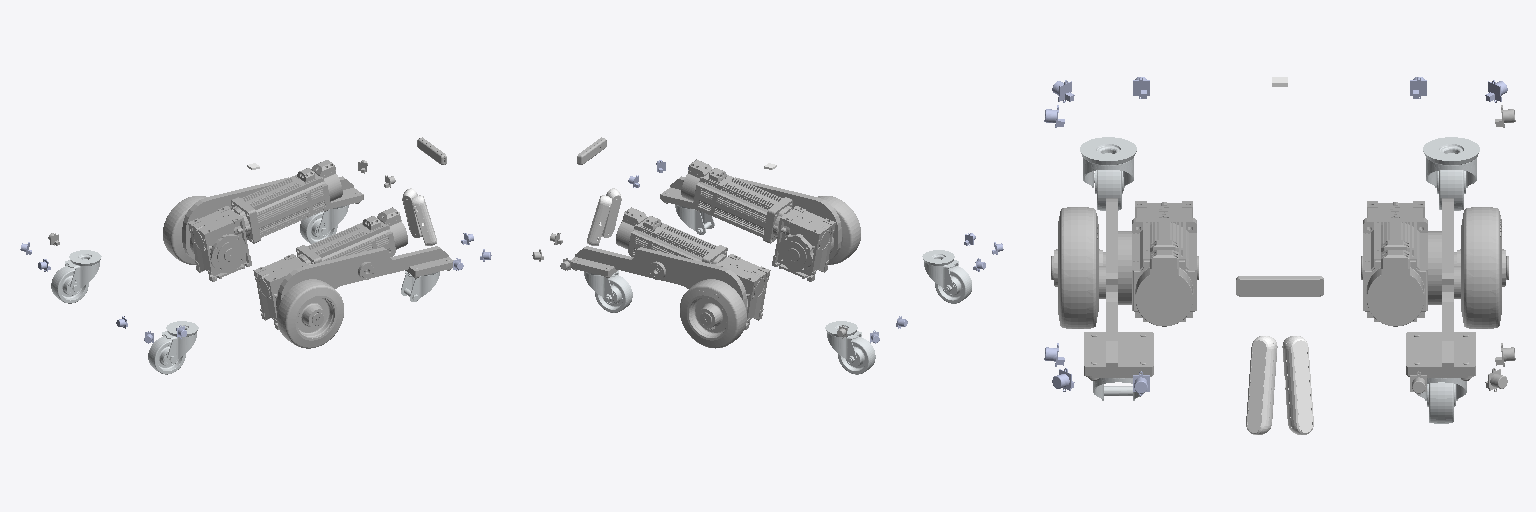
--- What the picture shows (computed from the rendered views, not written in the file) ---
3 views of the same robot in one strip: view 1: azimuth 30°, elevation 25°; view 2: azimuth 150°, elevation 25°; view 3: azimuth 270°, elevation 25° (orthographic).
Model smr200_description with 35 links and 34 joints (12 continuous, 22 fixed), rooted at base_footprint, posed every joint at zero.
Links seen in each view (by area): view 1: swing_arm_left_link, swing_arm_right_link, wheel_right_link, wheel_left_link, caster_rear_left_link, caster_rear_right_link, caster_wheel_rear_right_link, caster_wheel_rear_left_link, caster_front_right_link, depthcam_front_right_link, caster_wheel_front_left_link; view 2: swing_arm_right_link, swing_arm_left_link, wheel_left_link, wheel_right_link, caster_rear_right_link, caster_rear_left_link, caster_wheel_rear_left_link, caster_wheel_front_left_link, caster_wheel_rear_right_link, depthcam_front_left_link, caster_front_right_link, caster_front_left_link; view 3: swing_arm_left_link, swing_arm_right_link, wheel_right_link, wheel_left_link, depthcam_front_left_link, depthcam_front_right_link, caster_rear_left_link, caster_rear_right_link, depthcam_front_top_link, caster_wheel_front_left_link, caster_wheel_rear_left_link, caster_wheel_rear_right_link (+1 smaller).
Boxes of the visible links, left/top/right/bottom form: swing_arm_left_link: left=182, top=160, right=363, bottom=281; swing_arm_right_link: left=253, top=207, right=453, bottom=329; wheel_right_link: left=277, top=279, right=343, bottom=348; wheel_left_link: left=163, top=196, right=205, bottom=264; caster_rear_left_link: left=65, top=250, right=101, bottom=292; caster_rear_right_link: left=162, top=321, right=198, bottom=363; caster_wheel_rear_right_link: left=148, top=336, right=185, bottom=374; caster_wheel_rear_left_link: left=51, top=265, right=88, bottom=303; caster_front_right_link: left=401, top=271, right=439, bottom=301; depthcam_front_right_link: left=412, top=195, right=436, bottom=245; caster_wheel_front_left_link: left=300, top=211, right=337, bottom=243; swing_arm_right_link: left=660, top=159, right=841, bottom=281; swing_arm_left_link: left=570, top=207, right=770, bottom=329; wheel_left_link: left=680, top=279, right=746, bottom=348; wheel_right_link: left=818, top=196, right=860, bottom=264; caster_rear_right_link: left=922, top=250, right=958, bottom=292; caster_rear_left_link: left=825, top=321, right=861, bottom=363; caster_wheel_rear_left_link: left=838, top=336, right=875, bottom=374; caster_wheel_front_left_link: left=595, top=275, right=632, bottom=312; caster_wheel_rear_right_link: left=935, top=266, right=971, bottom=303; depthcam_front_left_link: left=587, top=195, right=611, bottom=245; caster_front_right_link: left=675, top=205, right=714, bottom=234; caster_front_left_link: left=584, top=270, right=618, bottom=301; swing_arm_left_link: left=1361, top=198, right=1508, bottom=380; swing_arm_right_link: left=1051, top=198, right=1198, bottom=380; wheel_right_link: left=1054, top=207, right=1102, bottom=328; wheel_left_link: left=1457, top=207, right=1505, bottom=328; depthcam_front_left_link: left=1282, top=336, right=1313, bottom=434; depthcam_front_right_link: left=1246, top=336, right=1277, bottom=434; caster_rear_left_link: left=1423, top=137, right=1479, bottom=187; caster_rear_right_link: left=1080, top=137, right=1136, bottom=187; depthcam_front_top_link: left=1236, top=276, right=1323, bottom=296; caster_wheel_front_left_link: left=1427, top=382, right=1455, bottom=423; caster_wheel_rear_left_link: left=1437, top=170, right=1465, bottom=210; caster_wheel_rear_right_link: left=1095, top=170, right=1123, bottom=210.
Bounding box of the posed robot: 0.8883 × 0.5766 × 0.3309 m (x, y, z).
27 mesh visuals loaded from 31 distinct referenced files (27 binary STL); not drawn: 4 (reference not matched to a file when rendering).

robot.urdf — smr200_description:
<?xml version="1.0" encoding="utf-8"?>
<!-- This URDF was automatically created by SolidWorks to URDF Exporter! Originally created by Stephen Brawner ([email redacted]) 
     Commit Version: 1.6.0-1-g15f4949  Build Version: 1.6.7594.29634
     For more information, please see http://wiki.ros.org/sw_urdf_exporter -->
<robot
  name="smr200_description">

  <link name="base_footprint"/>

  <joint name="base_footprint_to_base_link" type="fixed">
    <parent link="base_footprint"/>
    <child link="base_link"/>
    <origin xyz="0.0 0.0 0.3478" rpy="0 0 0"/>
  </joint>

  <link
    name="base_link">
    <inertial>
      <origin
        xyz="-0.026647 -0.0016089 -0.13415"
        rpy="0 0 0" />
      <mass
        value="0.10544" />
      <inertia
        ixx="0.47113"
        ixy="-0.00084986"
        ixz="-0.016209"
        iyy="1.206"
        iyz="-0.0010424"
        izz="1.3628" />
    </inertial>
    <visual>
      <origin
        xyz="0 0 0"
        rpy="0 0 0" />
      <geometry>
        <mesh
          filename="package://smr200_description/meshes/base_link.STL" />
      </geometry>
      <material
        name="">
        <color
          rgba="0.75294 0.75294 0.75294 1" />
      </material>
    </visual>
    <collision>
      <origin
        xyz="0 0 0"
        rpy="0 0 0" />
      <geometry>
        <mesh
          filename="package://smr200_description/meshes/base_link.STL" />
      </geometry>
    </collision>
  </link>
  <link
    name="swing_arm_left_link">
    <inertial>
      <origin
        xyz="-0.083791 0.023764 -0.044602"
        rpy="0 0 0" />
      <mass
        value="0.0139" />
      <inertia
        ixx="0.017736"
        ixy="0.0036377"
        ixz="3.2937E-06"
        iyy="0.046908"
        iyz="-4.7587E-06"
        izz="0.052747" />
    </inertial>
    <visual>
      <origin
        xyz="0 0 0"
        rpy="0 0 0" />
      <geometry>
        <mesh
          filename="package://smr200_description/meshes/swing_arm_left_link.STL" />
      </geometry>
      <material
        name="">
        <color
          rgba="0.75294 0.75294 0.75294 1" />
      </material>
    </visual>
    <collision>
      <origin
        xyz="0 0 0"
        rpy="0 0 0" />
      <geometry>
        <mesh
          filename="package://smr200_description/meshes/swing_arm_left_link.STL" />
      </geometry>
    </collision>
  </link>
  <joint
    name="swing_arm_left_joint"
    type="continuous">
    <origin
      xyz="0.1575 0.21 -0.218000000000007"
      rpy="-1.5707963267949 0 0" />
    <parent
      link="base_link" />
    <child
      link="swing_arm_left_link" />
    <axis
      xyz="0 0 1" />
  </joint>
  <link
    name="wheel_left_link">
    <inertial>
      <origin
        xyz="5.76130931278368E-08 9.33412154703328E-05 3.34998105323558E-05"
        rpy="0 0 0" />
      <mass
        value="4.92028521666382" />
      <inertia
        ixx="0.0086242644686345"
        ixy="2.70522886397653E-08"
        ixz="-4.32844949337095E-09"
        iyy="0.00861561656114537"
        iyz="-2.85497232661818E-06"
        izz="0.0155135674366376" />
    </inertial>
    <visual>
      <origin
        xyz="0 0 0"
        rpy="0 0 0" />
      <geometry>
        <mesh
          filename="package://smr200_description/meshes/wheel_left_link.STL" />
      </geometry>
      <material
        name="">
        <color
          rgba="0.792156862745098 0.792156862745098 0.792156862745098 1" />
      </material>
    </visual>
    <collision>
      <origin
        xyz="0 0 0"
        rpy="0 0 0" />
      <geometry>
        <mesh
          filename="package://smr200_description/meshes/wheel_left_link.STL" />
      </geometry>

      <surface>
        <friction>
          <ode>
            <mu>10000000.01</mu>
            <mu2>10000000.01</mu2>
            <fdir1>0 0 1</fdir1>
            <slip1>0.001</slip1>
            <slip2>0.001</slip2>
          </ode>
        </friction>
        <bounce>
          <restitution_coefficient>0.0</restitution_coefficient>
          <threshold>[number redacted]</threshold>
        </bounce>
        <contact>
          <ode>
            <soft_cfm>0.00001</soft_cfm>
            <soft_erp>0.2</soft_erp>
            <kp>100000000.0</kp>
            <kd>10.0</kd>
            <max_vel>100.0</max_vel>
            <min_depth>0.001</min_depth>
          </ode>
        </contact>
      </surface>

    </collision>
  </link>
  <joint
    name="wheel_left_joint"
    type="continuous">
    <origin
      xyz="-0.1575 0.054 0.037"
      rpy="0 0 0" />
    <parent
      link="swing_arm_left_link" />
    <child
      link="wheel_left_link" />
    <axis
      xyz="0 0 1" />
    <limit
      effort="100"
      velocity="50" />
  </joint>
  <link
    name="caster_front_left_link">
    <inertial>
      <origin
        xyz="-0.00916794690411099 0.000148743395371853 -0.0232497355491759"
        rpy="0 0 0" />
      <mass
        value="0.148884637872198" />
      <inertia
        ixx="8.24463656140124E-05"
        ixy="1.14375001225129E-08"
        ixz="-1.83743957993879E-05"
        iyy="8.10551190550526E-05"
        iyz="1.1068460631072E-08"
        izz="0.000103110866186914" />
    </inertial>
    <visual>
      <origin
        xyz="0 0 0"
        rpy="0 0 0" />
      <geometry>
        <mesh
          filename="package://smr200_description/meshes/caster_front_left_link.STL" />
      </geometry>
      <material
        name="">
        <color
          rgba="0.898039215686275 0.917647058823529 0.929411764705882 1" />
      </material>
    </visual>
    <collision>
      <origin
        xyz="0 0 0"
        rpy="0 0 0" />
      <geometry>
        <mesh
          filename="package://smr200_description/meshes/caster_front_left_link.STL" />
      </geometry>
      <surface>
        <friction>
          <ode>
            <mu>0.8</mu>
            <mu2>0.8</mu2>
            <kp>100000000.0</kp>
            <kd>10.0</kd>
          </ode>
        </friction>
      </surface>
    </collision>
  </link>
  <joint
    name="caster_front_left_joint"
    type="continuous">
    <origin
      xyz="0.1575 0.0289999999999999 -0.0125000000000001"
      rpy="1.5707963267949 0 0" />
    <parent
      link="swing_arm_left_link" />
    <child
      link="caster_front_left_link" />
    <axis
      xyz="0 0 -1" />
  </joint>
  <link
    name="caster_wheel_front_left_link">
    <inertial>
      <origin
        xyz="9.07118093879111E-06 3.41600020535848E-05 1.00280443698919E-05"
        rpy="0 0 0" />
      <mass
        value="0.286814980350806" />
      <inertia
        ixx="0.000143492634284959"
        ixy="4.40244433021421E-09"
        ixz="-3.53813210967159E-08"
        iyy="0.000143527236701207"
        iyz="-3.22862629139751E-08"
        izz="0.000245134545952503" />
    </inertial>
    <visual>
      <origin
        xyz="0 0 0"
        rpy="0 0 0" />
      <geometry>
        <mesh
          filename="package://smr200_description/meshes/caster_wheel_front_left_link.STL" />
      </geometry>
      <material
        name="">
        <color
          rgba="0.898039215686275 0.917647058823529 0.929411764705882 1" />
      </material>
    </visual>
    <collision>
      <origin
        xyz="0 0 0"
        rpy="0 0 0" />
      <geometry>
        <mesh
          filename="package://smr200_description/meshes/caster_wheel_front_left_link.STL" />
      </geometry>
      
      <surface>
        <friction>
          <ode>
            <mu>1.01</mu>
            <mu2>1.01</mu2>
            <fdir1>0 0 1</fdir1>
            <slip1>0</slip1>
            <slip2>0</slip2>
          </ode>
        </friction>
        <bounce>
          <restitution_coefficient>0.0</restitution_coefficient>
          <threshold>[number redacted]</threshold>
        </bounce>
        <contact>
          <ode>
            <soft_cfm>0.00001</soft_cfm>
            <soft_erp>0.2</soft_erp>
            <kp>100000000.0</kp>
            <kd>10.0</kd>
            <max_vel>100.0</max_vel>
            <min_depth>0.001</min_depth>
          </ode>
        </contact>
      </surface>

    </collision>
  </link>
  <joint
    name="caster_wheel_front_left_joint"
    type="continuous">
    <origin
      xyz="-0.038 0 -0.062"
      rpy="-1.5708 0 0" />
    <parent
      link="caster_front_left_link" />
    <child
      link="caster_wheel_front_left_link" />
    <axis
      xyz="0 0 -1" />

    <calibration rising="0.0"/>
    <dynamics damping="0.0" friction="0.0"/>
    <limit effort="30" velocity="1.0" lower="-2.2" upper="0.7" />
    <safety_controller k_velocity="10"/>

  </joint>
  <link
    name="swing_arm_right_link">
    <inertial>
      <origin
        xyz="-0.0837911210321309 -0.023763896430483 -0.0445953369512286"
        rpy="0 0 0" />
      <mass
        value="0.0139000089506776" />
      <inertia
        ixx="0.0177364623310523"
        ixy="-0.00363766903324375"
        ixz="3.59190964854568E-06"
        iyy="0.0469077047240042"
        iyz="1.43366828915928E-06"
        izz="0.0527469772594403" />
    </inertial>
    <visual>
      <origin
        xyz="0 0 0"
        rpy="0 0 0" />
      <geometry>
        <mesh
          filename="package://smr200_description/meshes/swing_arm_right_link.STL" />
      </geometry>
      <material
        name="">
        <color
          rgba="0.752941176470588 0.752941176470588 0.752941176470588 1" />
      </material>
    </visual>
    <collision>
      <origin
        xyz="0 0 0"
        rpy="0 0 0" />
      <geometry>
        <mesh
          filename="package://smr200_description/meshes/swing_arm_right_link.STL" />
      </geometry>
    </collision>
  </link>
  <joint
    name="swing_arm_right_joint"
    type="continuous">
    <origin
      xyz="0.1575 -0.21 -0.218000000000007"
      rpy="1.5707963267949 0 0" />
    <parent
      link="base_link" />
    <child
      link="swing_arm_right_link" />
    <axis
      xyz="0 0 -1" />
  </joint>
  <link
    name="wheel_right_link">
    <inertial>
      <origin
        xyz="5.76130930940097E-08 -9.33412154702773E-05 -3.34998105322865E-05"
        rpy="0 0 0" />
      <mass
        value="4.92028521666381" />
      <inertia
        ixx="0.00862426446863447"
        ixy="-2.70522886400945E-08"
        ixz="4.32844948903954E-09"
        iyy="0.00861561656114534"
        iyz="-2.85497232661669E-06"
        izz="0.0155135674366376" />
    </inertial>
    <visual>
      <origin
        xyz="0 0 0"
        rpy="0 0 0" />
      <geometry>
        <mesh
          filename="package://smr200_description/meshes/wheel_right_link.STL" />
      </geometry>
      <material
        name="">
        <color
          rgba="0.792156862745098 0.792156862745098 0.792156862745098 1" />
      </material>
    </visual>
    <collision>
      <origin
        xyz="0 0 0"
        rpy="0 0 0" />
      <geometry>
        <mesh
          filename="package://smr200_description/meshes/wheel_right_link.STL" />
      </geometry>
      
      <surface>
        <friction>
          <ode>
            <mu>10000000.01</mu>
            <mu2>10000000.01</mu2>
            <fdir1>0 0 1</fdir1>
            <slip1>0.001</slip1>
            <slip2>0.001</slip2>
          </ode>
        </friction>
        <bounce>
          <restitution_coefficient>0.0</restitution_coefficient>
          <threshold>[number redacted]</threshold>
        </bounce>
        <contact>
          <ode>
            <soft_cfm>0.00001</soft_cfm>
            <soft_erp>0.2</soft_erp>
            <kp>100000000.0</kp>
            <kd>10.0</kd>
            <max_vel>100.0</max_vel>
            <min_depth>0.001</min_depth>
          </ode>
        </contact>
      </surface>

    </collision>
  </link>
  <joint
    name="wheel_right_joint"
    type="continuous">
    <origin
      xyz="-0.1575 -0.054 0.037"
      rpy="0 0 0" />
    <parent
      link="swing_arm_right_link" />
    <child
      link="wheel_right_link" />
    <axis
      xyz="0 0 -1" />
    <limit
      effort="100"
      velocity="50" />
  </joint>
  <link
    name="caster_front_right_link">
    <inertial>
      <origin
        xyz="-0.00916794689172473 0.000148743404553092 -0.0232497355369849"
        rpy="0 0 0" />
      <mass
        value="0.148884637783886" />
      <inertia
        ixx="8.24463655345415E-05"
        ixy="1.14375353405549E-08"
        ixz="-1.83743957438304E-05"
        iyy="8.10551189419511E-05"
        iyz="1.10684955081094E-08"
        izz="0.000103110866108712" />
    </inertial>
    <visual>
      <origin
        xyz="0 0 0"
        rpy="0 0 0" />
      <geometry>
        <mesh
          filename="package://smr200_description/meshes/caster_front_right_link.STL" />
      </geometry>
      <material
        name="">
        <color
          rgba="0.898039215686275 0.917647058823529 0.929411764705882 1" />
      </material>
    </visual>
    <collision>
      <origin
        xyz="0 0 0"
        rpy="0 0 0" />
      <geometry>
        <mesh
          filename="package://smr200_description/meshes/caster_front_right_link.STL" />
      </geometry>
      
      <surface>
        <friction>
          <ode>
            <mu>1.01</mu>
            <mu2>1.01</mu2>
            <fdir1>0 0 1</fdir1>
            <slip1>0</slip1>
            <slip2>0</slip2>
          </ode>
        </friction>
        <bounce>
          <restitution_coefficient>0.0</restitution_coefficient>
          <threshold>[number redacted]</threshold>
        </bounce>
        <contact>
          <ode>
            <soft_cfm>0.00001</soft_cfm>
            <soft_erp>0.2</soft_erp>
            <kp>100000000.0</kp>
            <kd>10.0</kd>
            <max_vel>100.0</max_vel>
            <min_depth>0.001</min_depth>
          </ode>
        </contact>
      </surface>

    </collision>
  </link>
  <joint
    name="caster_front_right_joint"
    type="continuous">
    <origin
      xyz="0.1575 -0.0290000000000012 -0.0125"
      rpy="-1.5707963267949 0 0" />
    <parent
      link="swing_arm_right_link" />
    <child
      link="caster_front_right_link" />
    <axis
      xyz="0 0 -1" />
  </joint>
  <link
    name="caster_wheel_front_right_link">
    <inertial>
      <origin
        xyz="-2.81076897244992E-05 2.14277817018327E-05 1.00280443800782E-05"
        rpy="0 0 0" />
      <mass
        value="0.286814980349857" />
      <inertia
        ixx="0.000143519083987807"
        ixy="-1.5330308432154E-08"
        ixz="1.63294248752922E-08"
        iyy="0.000143500786998235"
        iyz="-4.5028774285973E-08"
        izz="0.000245134545952498" />
    </inertial>
    <visual>
      <origin
        xyz="0 0 0"
        rpy="0 0 0" />
      <geometry>
        <mesh
          filename="package://smr200_description/meshes/caster_wheel_front_right_link.STL" />
      </geometry>
      <material
        name="">
        <color
          rgba="0.898039215686275 0.917647058823529 0.929411764705882 1" />
      </material>
    </visual>
    <collision>
      <origin
        xyz="0 0 0"
        rpy="0 0 0" />
      <geometry>
        <mesh
          filename="package://smr200_description/meshes/caster_wheel_front_right_link.STL" />
      </geometry>
      
      <surface>
        <friction>
          <ode>
            <mu>1.01</mu>
            <mu2>1.01</mu2>
            <fdir1>0 0 1</fdir1>
            <slip1>0</slip1>
            <slip2>0</slip2>
          </ode>
        </friction>
        <bounce>
          <restitution_coefficient>0.0</restitution_coefficient>
          <threshold>[number redacted]</threshold>
        </bounce>
        <contact>
          <ode>
            <soft_cfm>0.00001</soft_cfm>
            <soft_erp>0.2</soft_erp>
            <kp>100000000.0</kp>
            <kd>10.0</kd>
            <max_vel>100.0</max_vel>
            <min_depth>0.001</min_depth>
          </ode>
        </contact>
      </surface>

    </collision>
  </link>
  <joint
    name="caster_wheel_front_right_joint"
    type="continuous">
    <origin
      xyz="-0.038 0 -0.062"
      rpy="1.5708 0 0" />
    <parent
      link="caster_front_right_link" />
    <child
      link="caster_wheel_front_right_link" />
    <axis
      xyz="0 0 -1" />

    <calibration rising="0.0"/>
    <dynamics damping="0.0" friction="0.0"/>
    <limit effort="30" velocity="1.0" lower="-2.2" upper="0.7" />
    <safety_controller k_velocity="10"/>

  </joint>
  <link
    name="caster_rear_left_link">
    <inertial>
      <origin
        xyz="-0.00916794690398598 0.000148743394883466 -0.0232497355491254"
        rpy="0 0 0" />
      <mass
        value="0.148884637869508" />
      <inertia
        ixx="8.24463656126247E-05"
        ixy="1.143749909265E-08"
        ixz="-1.83743957990951E-05"
        iyy="8.10551190546306E-05"
        iyz="1.10684603347817E-08"
        izz="0.000103110866185491" />
    </inertial>
    <visual>
      <origin
        xyz="0 0 0"
        rpy="0 0 0" />
      <geometry>
        <mesh
          filename="package://smr200_description/meshes/caster_rear_left_link.STL" />
      </geometry>
      <material
        name="">
        <color
          rgba="0.898039215686275 0.917647058823529 0.929411764705882 1" />
      </material>
    </visual>
    <collision>
      <origin
        xyz="0 0 0"
        rpy="0 0 0" />
      <geometry>
        <mesh
          filename="package://smr200_description/meshes/caster_rear_left_link.STL" />
      </geometry>
      <surface>
        <friction>
          <ode>
            <mu>0.8</mu>
            <mu2>0.8</mu2>
            <kp>100000000.0</kp>
            <kd>10.0</kd>
          </ode>
        </friction>
      </surface>
    </collision>
  </link>
  <joint
    name="caster_rear_left_joint"
    type="continuous">
    <origin
      xyz="-0.299 0.21 -0.245800000000008"
      rpy="0 0 0" />
    <parent
      link="base_link" />
    <child
      link="caster_rear_left_link" />
    <axis
      xyz="0 0 -1" />

    <calibration rising="0.0"/>
    <dynamics damping="0.0" friction="0.0"/>
    <limit effort="30" velocity="1.0" lower="-2.2" upper="0.7" />
    <safety_controller k_velocity="10"/>

  </joint>
  <link
    name="caster_wheel_rear_left_link">
    <inertial>
      <origin
        xyz="-2.81076897243882E-05 -2.14277817018882E-05 -1.00280443786627E-05"
        rpy="0 0 0" />
      <mass
        value="0.286814980349859" />
      <inertia
        ixx="0.000143519083987807"
        ixy="1.53303084323672E-08"
        ixz="-1.63294248749492E-08"
        iyy="0.000143500786998236"
        iyz="-4.50287742863549E-08"
        izz="0.000245134545952499" />
    </inertial>
    <visual>
      <origin
        xyz="0 0 0"
        rpy="0 0 0" />
      <geometry>
        <mesh
          filename="package://smr200_description/meshes/caster_wheel_rear_left_link.STL" />
      </geometry>
      <material
        name="">
        <color
          rgba="0.898039215686275 0.917647058823529 0.929411764705882 1" />
      </material>
    </visual>
    <collision>
      <origin
        xyz="0 0 0"
        rpy="0 0 0" />
      <geometry>
        <mesh
          filename="package://smr200_description/meshes/caster_wheel_rear_left_link.STL" />
      </geometry>
      
      <surface>
        <friction>
          <ode>
            <mu>1.01</mu>
            <mu2>1.01</mu2>
            <fdir1>0 0 1</fdir1>
            <slip1>0</slip1>
            <slip2>0</slip2>
          </ode>
        </friction>
        <bounce>
          <restitution_coefficient>0.0</restitution_coefficient>
          <threshold>[number redacted]</threshold>
        </bounce>
        <contact>
          <ode>
            <soft_cfm>0.00001</soft_cfm>
            <soft_erp>0.2</soft_erp>
            <kp>100000000.0</kp>
            <kd>10.0</kd>
            <max_vel>100.0</max_vel>
            <min_depth>0.001</min_depth>
          </ode>
        </contact>
      </surface>

    </collision>
  </link>
  <joint
    name="caster_wheel_rear_left_joint"
    type="continuous">
    <origin
      xyz="-0.038 0 -0.062"
      rpy="-1.5708 0 0" />
    <parent
      link="caster_rear_left_link" />
    <child
      link="caster_wheel_rear_left_link" />
    <axis
      xyz="0 0 -1" />

    <calibration rising="0.0"/>
    <dynamics damping="0.0" friction="0.0"/>
    <limit effort="30" velocity="1.0" lower="-2.2" upper="0.7" />
    <safety_controller k_velocity="10"/>

  </joint>
  <link
    name="caster_rear_right_link">
    <inertial>
      <origin
        xyz="-0.0091679468915738 0.000148743404136079 -0.023249735536938"
        rpy="0 0 0" />
      <mass
        value="0.148884637780923" />
      <inertia
        ixx="8.24463655331095E-05"
        ixy="1.14375344914867E-08"
        ixz="-1.83743957435236E-05"
        iyy="8.1055118941433E-05"
        iyz="1.10684952341112E-08"
        izz="0.000103110866107166" />
    </inertial>
    <visual>
      <origin
        xyz="0 0 0"
        rpy="0 0 0" />
      <geometry>
        <mesh
          filename="package://smr200_description/meshes/caster_rear_right_link.STL" />
      </geometry>
      <material
        name="">
        <color
          rgba="0.898039215686275 0.917647058823529 0.929411764705882 1" />
      </material>
    </visual>
    <collision>
      <origin
        xyz="0 0 0"
        rpy="0 0 0" />
      <geometry>
        <mesh
          filename="package://smr200_description/meshes/caster_rear_right_link.STL" />
      </geometry>
      <surface>
        <friction>
          <ode>
            <mu>0.8</mu>
            <mu2>0.8</mu2>
            <kp>100000000.0</kp>
            <kd>10.0</kd>
          </ode>
        </friction>
      </surface>
    </collision>
  </link>
  <joint
    name="caster_rear_right_joint"
    type="continuous">
    <origin
      xyz="-0.299 -0.21 -0.2458"
      rpy="0 0 0" />
    <parent
      link="base_link" />
    <child
      link="caster_rear_right_link" />
    <axis
      xyz="0 0 -1" />

    <calibration rising="0.0"/>
    <dynamics damping="0.0" friction="0.0"/>
    <limit effort="30" velocity="1.0" lower="-2.2" upper="0.7" />
    <safety_controller k_velocity="10"/>

  </joint>
  <link
    name="caster_wheel_rear_right_link">
    <inertial>
      <origin
        xyz="-2.81076897244437E-05 2.14277817017772E-05 1.00280443800227E-05"
        rpy="0 0 0" />
      <mass
        value="0.286814980349855" />
      <inertia
        ixx="0.000143519083987805"
        ixy="-1.53303084323849E-08"
        ixz="1.63294248752335E-08"
        iyy="0.000143500786998234"
        iyz="-4.50287742856061E-08"
        izz="0.000245134545952496" />
    </inertial>
    <visual>
      <origin
        xyz="0 0 0"
        rpy="0 0 0" />
      <geometry>
        <mesh
          filename="package://smr200_description/meshes/caster_wheel_rear_right_link.STL" />
      </geometry>
      <material
        name="">
        <color
          rgba="0.898039215686275 0.917647058823529 0.929411764705882 1" />
      </material>
    </visual>
    <collision>
      <origin
        xyz="0 0 0"
        rpy="0 0 0" />
      <geometry>
        <mesh
          filename="package://smr200_description/meshes/caster_wheel_rear_right_link.STL" />
      </geometry>
      
      <surface>
        <friction>
          <ode>
            <mu>1.01</mu>
            <mu2>1.01</mu2>
            <fdir1>0 0 1</fdir1>
            <slip1>0</slip1>
            <slip2>0</slip2>
          </ode>
        </friction>
        <bounce>
          <restitution_coefficient>0.0</restitution_coefficient>
          <threshold>[number redacted]</threshold>
        </bounce>
        <contact>
          <ode>
            <soft_cfm>0.00001</soft_cfm>
            <soft_erp>0.2</soft_erp>
            <kp>100000000.0</kp>
            <kd>10.0</kd>
            <max_vel>100.0</max_vel>
            <min_depth>0.001</min_depth>
          </ode>
        </contact>
      </surface>

    </collision>
  </link>
  <joint
    name="caster_wheel_rear_right_joint"
    type="continuous">
    <origin
      xyz="-0.038 0.001 -0.062"
      rpy="1.5708 0 0" />
    <parent
      link="caster_rear_right_link" />
    <child
      link="caster_wheel_rear_right_link" />
    <axis
      xyz="0 0 -1" />

    <calibration rising="0.0"/>
    <dynamics damping="0.0" friction="0.0"/>
    <limit effort="30" velocity="1.0" lower="-2.2" upper="0.7" />
    <safety_controller k_velocity="10"/>

  </joint>
  <link
    name="lidar_front_link">
    <inertial>
      <origin
        xyz="-0.000267994966892726 3.5375998918008E-06 -0.0125665312291533"
        rpy="0 0 0" />
      <mass
        value="0.0932396336685257" />
      <inertia
        ixx="5.2510158402121E-05"
        ixy="-6.97062431557764E-10"
        ixz="6.39430995763527E-08"
        iyy="5.26163151570733E-05"
        iyz="-2.77922595269124E-09"
        izz="9.92613112400179E-05" />
    </inertial>
    <visual>
      <origin
        xyz="0 0 0"
        rpy="0 0 0" />
      <geometry>
        <mesh
          filename="package://smr200_description/meshes/lidar_front_link.STL" />
      </geometry>
      <material
        name="">
        <color
          rgba="1 0.501960784313725 0.501960784313725 1" />
      </material>
    </visual>
    <collision>
      <origin
        xyz="0 0 0"
        rpy="0 0 0" />
      <geometry>
        <mesh
          filename="package://smr200_description/meshes/lidar_front_link.STL" />
      </geometry>
    </collision>
  </link>
  <joint
    name="lidar_front_joint"
    type="fixed">
    <origin
      xyz="0.396 -0.23499 -0.14276"
      rpy="0 0 -0.7854" />
    <parent
      link="base_link" />
    <child
      link="lidar_front_link" />
    <axis
      xyz="0 0 0" />
  </joint>
  <link
    name="lidar_rear_link">
    <inertial>
      <origin
        xyz="-0.000267994966919427 3.53759986759794E-06 -0.0125665312291313"
        rpy="0 0 0" />
      <mass
        value="0.0932396336685166" />
      <inertia
        ixx="5.251015840212E-05"
        ixy="-6.97062431689901E-10"
        ixz="6.39430995772695E-08"
        iyy="5.26163151570682E-05"
        iyz="-2.77922595286048E-09"
        izz="9.92613112400124E-05" />
    </inertial>
    <visual>
      <origin
        xyz="0 0 0"
        rpy="0 0 0" />
      <geometry>
        <mesh
          filename="package://smr200_description/meshes/lidar_rear_link.STL" />
      </geometry>
      <material
        name="">
        <color
          rgba="1 0.501960784313725 0.501960784313725 1" />
      </material>
    </visual>
    <collision>
      <origin
        xyz="0 0 0"
        rpy="0 0 0" />
      <geometry>
        <mesh
          filename="package://smr200_description/meshes/lidar_rear_link.STL" />
      </geometry>
    </collision>
  </link>
  <joint
    name="lidar_rear_joint"
    type="fixed">
    <origin
      xyz="-0.38401 0.235 -0.1418"
      rpy="0 0 2.3562" />
    <parent
      link="base_link" />
    <child
      link="lidar_rear_link" />
    <axis
      xyz="0 0 0" />
  </joint>
  <link
    name="depthcam_front_left_link">
    <inertial>
      <origin
        xyz="0.00205465802673033 0.000268685933432433 0.0146045324274485"
        rpy="0 0 0" />
      <mass
        value="0.0607537105971397" />
      <inertia
        ixx="7.79818123126208E-05"
        ixy="-2.55133558510122E-08"
        ixz="-3.51134247448455E-08"
        iyy="5.06158648401123E-06"
        iyz="2.56320907246364E-08"
        izz="7.40183063521512E-05" />
    </inertial>
    <visual>
      <origin
        xyz="0 0 0"
        rpy="0 0 0" />
      <geometry>
        <mesh
          filename="package://smr200_description/meshes/depthcam_front_left_link.STL" />
      </geometry>
      <material
        name="">
        <color
          rgba="1 1 1 1" />
      </material>
    </visual>
    <collision>
      <origin
        xyz="0 0 0"
        rpy="0 0 0" />
      <geometry>
        <mesh
          filename="package://smr200_description/meshes/depthcam_front_left_link.STL" />
      </geometry>
    </collision>
  </link>
  <joint
    name="depthcam_front_left_joint"
    type="fixed">
    <origin
      xyz="0.40471 0.033483 -0.23905"
      rpy="1.5013 -0.26357 0.5236" />
    <parent
      link="base_link" />
    <child
      link="depthcam_front_left_link" />
    <axis
      xyz="0 0 0" />
  </joint>
  <link
    name="depthcam_front_right_link">
    <inertial>
      <origin
        xyz="0.00205465282956815 0.000268685457639639 0.0146045316276136"
        rpy="0 0 0" />
      <mass
        value="0.060753752180391" />
      <inertia
        ixx="7.79818605016467E-05"
        ixy="-2.55152779380404E-08"
        ixz="-3.51119403926908E-08"
        iyy="5.0615887672157E-06"
        iyz="2.56249476722596E-08"
        izz="7.40183539559307E-05" />
    </inertial>
    <visual>
      <origin
        xyz="0 0 0"
        rpy="0 0 0" />
      <geometry>
        <mesh
          filename="package://smr200_description/meshes/depthcam_front_right_link.STL" />
      </geometry>
      <material
        name="">
        <color
          rgba="1 1 1 1" />
      </material>
    </visual>
    <collision>
      <origin
        xyz="0 0 0"
        rpy="0 0 0" />
      <geometry>
        <mesh
          filename="package://smr200_description/meshes/depthcam_front_right_link.STL" />
      </geometry>
    </collision>
  </link>
  <joint
    name="depthcam_front_right_joint"
    type="fixed">
    <origin
      xyz="0.40471 -0.033483 -0.23905"
      rpy="-1.5013 -0.26357 -0.5236" />
    <parent
      link="base_link" />
    <child
      link="depthcam_front_right_link" />
    <axis
      xyz="0 0 0" />
  </joint>
  <link
    name="depthcam_front_top_link">
    <inertial>
      <origin
        xyz="-0.00700379967453924 -0.00686872375428842 9.17697034640008E-06"
        rpy="0 0 0" />
      <mass
        value="0.120538051855423" />
      <inertia
        ixx="0.000109400645522517"
        ixy="-1.05823454758438E-07"
        ixz="-1.49658476792281E-08"
        iyy="7.39026523464577E-06"
        iyz="3.41785510728163E-08"
        izz="0.000103935159287737" />
    </inertial>
    <visual>
      <origin
        xyz="0 0 0"
        rpy="0 0 0" />
      <geometry>
        <mesh
          filename="package://smr200_description/meshes/depthcam_front_top_link.STL" />
      </geometry>
      <material
        name="">
        <color
          rgba="0.792156862745098 0.792156862745098 0.792156862745098 1" />
      </material>
    </visual>
    <collision>
      <origin
        xyz="0 0 0"
        rpy="0 0 0" />
      <geometry>
        <mesh
          filename="package://smr200_description/meshes/depthcam_front_top_link.STL" />
      </geometry>
    </collision>
  </link>
  <joint
    name="depthcam_front_top_joint"
    type="fixed">
    <origin
      xyz="0.451 0.0081 -0.088"
      rpy="0 0 0" />
    <parent
      link="base_link" />
    <child
      link="depthcam_front_top_link" />
    <axis
      xyz="0 0 0" />
  </joint>
  <link
    name="ultrasonic_front_left_link">
    <inertial>
      <origin
        xyz="-0.00990545214343536 -0.000360935413968255 -0.000782026730264507"
        rpy="0 0 0" />
      <mass
        value="0.0330313597353151" />
      <inertia
        ixx="1.28694267013293E-06"
        ixy="2.44775965516465E-23"
        ixz="-1.32348898008484E-23"
        iyy="1.08244491110523E-06"
        iyz="1.3752801384319E-22"
        izz="1.02007684167811E-06" />
    </inertial>
    <visual>
      <origin
        xyz="0 0 0"
        rpy="0 0 0" />
      <geometry>
        <mesh
          filename="package://smr200_description/meshes/ultrasonic_front_left_link.STL" />
      </geometry>
      <material
        name="">
        <color
          rgba="0.792156862745098 0.792156862745098 0.792156862745098 1" />
      </material>
    </visual>
    <collision>
      <origin
        xyz="0 0 0"
        rpy="0 0 0" />
      <geometry>
        <mesh
          filename="package://smr200_description/meshes/ultrasonic_front_left_link.STL" />
      </geometry>
    </collision>
  </link>
  <joint
    name="ultrasonic_front_left_joint"
    type="fixed">
    <origin
      xyz="0.44853 0.17 -0.22418"
      rpy="0 -0.10436 0" />
    <parent
      link="base_link" />
    <child
      link="ultrasonic_front_left_link" />
    <axis
      xyz="0 0 0" />
  </joint>
  <link
    name="ultrasonic_front_left_mid_link">
    <inertial>
      <origin
        xyz="-0.00990545214343541 -0.000360935413968311 -0.000782026730264396"
        rpy="0 0 0" />
      <mass
        value="0.0330313597353151" />
      <inertia
        ixx="1.28694267013293E-06"
        ixy="-2.11758236813575E-22"
        ixz="-1.62127400060393E-22"
        iyy="1.08244491110522E-06"
        iyz="8.40415502353876E-22"
        izz="1.02007684167811E-06" />
    </inertial>
    <visual>
      <origin
        xyz="0 0 0"
        rpy="0 0 0" />
      <geometry>
        <mesh
          filename="package://smr200_description/meshes/ultrasonic_front_left_mid_link.STL" />
      </geometry>
      <material
        name="">
        <color
          rgba="0.792156862745098 0.792156862745098 0.792156862745098 1" />
      </material>
    </visual>
    <collision>
      <origin
        xyz="0 0 0"
        rpy="0 0 0" />
      <geometry>
        <mesh
          filename="package://smr200_description/meshes/ultrasonic_front_left_mid_link.STL" />
      </geometry>
    </collision>
  </link>
  <joint
    name="ultrasonic_front_left_mid_joint"
    type="fixed">
    <origin
      xyz="0.43425 0.27325 -0.22418"
      rpy="0 -0.10436 0.7854" />
    <parent
      link="base_link" />
    <child
      link="ultrasonic_front_left_mid_link" />
    <axis
      xyz="0 0 0" />
  </joint>
  <link
    name="ultrasonic_front_left_side_link">
    <inertial>
      <origin
        xyz="-0.0099054521434353 -0.000360935413968255 -0.000782026730264507"
        rpy="0 0 0" />
      <mass
        value="0.0330313597353151" />
      <inertia
        ixx="1.28694267013293E-06"
        ixy="-1.46539188336252E-22"
        ixz="-1.25731453108056E-22"
        iyy="1.08244491110523E-06"
        iyz="1.58933500306917E-23"
        izz="1.02007684167811E-06" />
    </inertial>
    <visual>
      <origin
        xyz="0 0 0"
        rpy="0 0 0" />
      <geometry>
        <mesh
          filename="package://smr200_description/meshes/ultrasonic_front_left_side_link.STL" />
      </geometry>
      <material
        name="">
        <color
          rgba="0.792156862745098 0.792156862745098 0.792156862745098 1" />
      </material>
    </visual>
    <collision>
      <origin
        xyz="0 0 0"
        rpy="0 0 0" />
      <geometry>
        <mesh
          filename="package://smr200_description/meshes/ultrasonic_front_left_side_link.STL" />
      </geometry>
    </collision>
  </link>
  <joint
    name="ultrasonic_front_left_side_joint"
    type="fixed">
    <origin
      xyz="0.351 0.28753 -0.22418"
      rpy="0 -0.10436 1.5708" />
    <parent
      link="base_link" />
    <child
      link="ultrasonic_front_left_side_link" />
    <axis
      xyz="0 0 0" />
  </joint>
  <link
    name="ultrasonic_front_right_link">
    <inertial>
      <origin
        xyz="-0.00990545214343552 0.00036093541396847 -0.000782026730267504"
        rpy="0 0 0" />
      <mass
        value="0.0330313597353151" />
      <inertia
        ixx="1.28694267013293E-06"
        ixy="6.20762565656672E-24"
        ixz="-4.63221143029695E-23"
        iyy="1.08244491110523E-06"
        iyz="7.04994803944604E-24"
        izz="1.02007684167811E-06" />
    </inertial>
    <visual>
      <origin
        xyz="0 0 0"
        rpy="0 0 0" />
      <geometry>
        <mesh
          filename="package://smr200_description/meshes/ultrasonic_front_right_link.STL" />
      </geometry>
      <material
        name="">
        <color
          rgba="0.792156862745098 0.819607843137255 0.933333333333333 1" />
      </material>
    </visual>
    <collision>
      <origin
        xyz="0 0 0"
        rpy="0 0 0" />
      <geometry>
        <mesh
          filename="package://smr200_description/meshes/ultrasonic_front_right_link.STL" />
      </geometry>
    </collision>
  </link>
  <joint
    name="ultrasonic_front_right_joint"
    type="fixed">
    <origin
      xyz="0.44853 -0.17 -0.22418"
      rpy="0 -0.10436 0" />
    <parent
      link="base_link" />
    <child
      link="ultrasonic_front_right_link" />
    <axis
      xyz="0 0 0" />
  </joint>
  <link
    name="ultrasonic_front_right_mid_link">
    <inertial>
      <origin
        xyz="-0.00990545214343569 0.000360935413968727 -0.000782026730264562"
        rpy="0 0 0" />
      <mass
        value="0.033031359735315" />
      <inertia
        ixx="1.28694267013293E-06"
        ixy="4.76456032830544E-22"
        ixz="1.65436122510606E-23"
        iyy="1.08244491110522E-06"
        iyz="-2.44845461315696E-22"
        izz="1.02007684167811E-06" />
    </inertial>
    <visual>
      <origin
        xyz="0 0 0"
        rpy="0 0 0" />
      <geometry>
        <mesh
          filename="package://smr200_description/meshes/ultrasonic_front_right_mid_link.STL" />
      </geometry>
      <material
        name="">
        <color
          rgba="0.792156862745098 0.819607843137255 0.933333333333333 1" />
      </material>
    </visual>
    <collision>
      <origin
        xyz="0 0 0"
        rpy="0 0 0" />
      <geometry>
        <mesh
          filename="package://smr200_description/meshes/ultrasonic_front_right_mid_link.STL" />
      </geometry>
    </collision>
  </link>
  <joint
    name="ultrasonic_front_right_mid_joint"
    type="fixed">
    <origin
      xyz="0.43425 -0.27325 -0.22418"
      rpy="0 -0.10436 -0.7854" />
    <parent
      link="base_link" />
    <child
      link="ultrasonic_front_right_mid_link" />
    <axis
      xyz="0 0 0" />
  </joint>
  <link
    name="ultrasonic_front_right_side_link">
    <inertial>
      <origin
        xyz="-0.00990545214343669 0.000360935413968089 -0.000782026730264396"
        rpy="0 0 0" />
      <mass
        value="0.0330313597353151" />
      <inertia
        ixx="1.28694267013294E-06"
        ixy="2.0492332538577E-22"
        ixz="-9.2644228605935E-23"
        iyy="1.08244491110523E-06"
        iyz="-1.53367473204685E-22"
        izz="1.02007684167811E-06" />
    </inertial>
    <visual>
      <origin
        xyz="0 0 0"
        rpy="0 0 0" />
      <geometry>
        <mesh
          filename="package://smr200_description/meshes/ultrasonic_front_right_side_link.STL" />
      </geometry>
      <material
        name="">
        <color
          rgba="0.792156862745098 0.819607843137255 0.933333333333333 1" />
      </material>
    </visual>
    <collision>
      <origin
        xyz="0 0 0"
        rpy="0 0 0" />
      <geometry>
        <mesh
          filename="package://smr200_description/meshes/ultrasonic_front_right_side_link.STL" />
      </geometry>
    </collision>
  </link>
  <joint
    name="ultrasonic_front_right_side_joint"
    type="fixed">
    <origin
      xyz="0.351 -0.28753 -0.22418"
      rpy="0 -0.10436 -1.5708" />
    <parent
      link="base_link" />
    <child
      link="ultrasonic_front_right_side_link" />
    <axis
      xyz="0 0 0" />
  </joint>
  <link
    name="ultrasonic_rear_left_link">
    <inertial>
      <origin
        xyz="-0.0099054521434353 0.000360935413968311 -0.000782026730264507"
        rpy="0 0 0" />
      <mass
        value="0.0330313597353151" />
      <inertia
        ixx="1.28694267013293E-06"
        ixy="-8.97285139550002E-23"
        ixz="1.98523347012727E-23"
        iyy="1.08244491110523E-06"
        iyz="-8.25629212311342E-23"
        izz="1.02007684167811E-06" />
    </inertial>
    <visual>
      <origin
        xyz="0 0 0"
        rpy="0 0 0" />
      <geometry>
        <mesh
          filename="package://smr200_description/meshes/ultrasonic_rear_left_link.STL" />
      </geometry>
      <material
        name="">
        <color
          rgba="0.792156862745098 0.819607843137255 0.933333333333333 1" />
      </material>
    </visual>
    <collision>
      <origin
        xyz="0 0 0"
        rpy="0 0 0" />
      <geometry>
        <mesh
          filename="package://smr200_description/meshes/ultrasonic_rear_left_link.STL" />
      </geometry>
    </collision>
  </link>
  <joint
    name="ultrasonic_rear_left_joint"
    type="fixed">
    <origin
      xyz="-0.43653 0.17 -0.22418"
      rpy="0 -0.10436 3.1416" />
    <parent
      link="base_link" />
    <child
      link="ultrasonic_rear_left_link" />
    <axis
      xyz="0 0 0" />
  </joint>
  <link
    name="ultrasonic_rear_left_mid_link">
    <inertial>
      <origin
        xyz="-0.00990545214343541 0.0003609354139682 -0.000782026730264562"
        rpy="0 0 0" />
      <mass
        value="0.0330313597353151" />
      <inertia
        ixx="1.28694267013293E-06"
        ixy="1.05879118406788E-22"
        ixz="2.81241408268029E-22"
        iyy="1.08244491110522E-06"
        iyz="-9.69455677912148E-22"
        izz="1.02007684167811E-06" />
    </inertial>
    <visual>
      <origin
        xyz="0 0 0"
        rpy="0 0 0" />
      <geometry>
        <mesh
          filename="package://smr200_description/meshes/ultrasonic_rear_left_mid_link.STL" />
      </geometry>
      <material
        name="">
        <color
          rgba="0.792156862745098 0.819607843137255 0.933333333333333 1" />
      </material>
    </visual>
    <collision>
      <origin
        xyz="0 0 0"
        rpy="0 0 0" />
      <geometry>
        <mesh
          filename="package://smr200_description/meshes/ultrasonic_rear_left_mid_link.STL" />
      </geometry>
    </collision>
  </link>
  <joint
    name="ultrasonic_rear_left_mid_joint"
    type="fixed">
    <origin
      xyz="-0.42225 0.27325 -0.22418"
      rpy="0 -0.10436 2.3562" />
    <parent
      link="base_link" />
    <child
      link="ultrasonic_rear_left_mid_link" />
    <axis
      xyz="0 0 0" />
  </joint>
  <link
    name="ultrasonic_rear_left_side_link">
    <inertial>
      <origin
        xyz="-0.0099054521434353 -0.0003609354139682 -0.000782026730264618"
        rpy="0 0 0" />
      <mass
        value="0.0330313597353151" />
      <inertia
        ixx="1.28694267013293E-06"
        ixy="8.55285245698956E-23"
        ixz="7.9409338805092E-23"
        iyy="1.08244491110523E-06"
        iyz="-2.09276497044877E-24"
        izz="1.02007684167811E-06" />
    </inertial>
    <visual>
      <origin
        xyz="0 0 0"
        rpy="0 0 0" />
      <geometry>
        <mesh
          filename="package://smr200_description/meshes/ultrasonic_rear_left_side_link.STL" />
      </geometry>
      <material
        name="">
        <color
          rgba="0.792156862745098 0.792156862745098 0.792156862745098 1" />
      </material>
    </visual>
    <collision>
      <origin
        xyz="0 0 0"
        rpy="0 0 0" />
      <geometry>
        <mesh
          filename="package://smr200_description/meshes/ultrasonic_rear_left_side_link.STL" />
      </geometry>
    </collision>
  </link>
  <joint
    name="ultrasonic_rear_left_side_joint"
    type="fixed">
    <origin
      xyz="-0.339 0.28753 -0.22418"
      rpy="0 -0.10436 1.5708" />
    <parent
      link="base_link" />
    <child
      link="ultrasonic_rear_left_side_link" />
    <axis
      xyz="0 0 0" />
  </joint>
  <link
    name="ultrasonic_rear_right_link">
    <inertial>
      <origin
        xyz="-0.00990545214343536 -0.000360935413968456 -0.000782026730267504"
        rpy="0 0 0" />
      <mass
        value="0.0330313597353151" />
      <inertia
        ixx="1.28694267013293E-06"
        ixy="1.12033891972881E-22"
        ixz="-3.30872245021211E-23"
        iyy="1.08244491110523E-06"
        iyz="-4.87772114149499E-23"
        izz="1.02007684167811E-06" />
    </inertial>
    <visual>
      <origin
        xyz="0 0 0"
        rpy="0 0 0" />
      <geometry>
        <mesh
          filename="package://smr200_description/meshes/ultrasonic_rear_right_link.STL" />
      </geometry>
      <material
        name="">
        <color
          rgba="0.792156862745098 0.819607843137255 0.933333333333333 1" />
      </material>
    </visual>
    <collision>
      <origin
        xyz="0 0 0"
        rpy="0 0 0" />
      <geometry>
        <mesh
          filename="package://smr200_description/meshes/ultrasonic_rear_right_link.STL" />
      </geometry>
    </collision>
  </link>
  <joint
    name="ultrasonic_rear_right_joint"
    type="fixed">
    <origin
      xyz="-0.43653 -0.17 -0.22418"
      rpy="0 -0.10436 3.1416" />
    <parent
      link="base_link" />
    <child
      link="ultrasonic_rear_right_link" />
    <axis
      xyz="0 0 0" />
  </joint>
  <link
    name="ultrasonic_rear_right_mid_link">
    <inertial>
      <origin
        xyz="-0.00990545214343574 -0.000360935413968699 -0.000782026730264451"
        rpy="0 0 0" />
      <mass
        value="0.033031359735315" />
      <inertia
        ixx="1.28694267013293E-06"
        ixy="-5.82335151237331E-22"
        ixz="6.28657265540301E-23"
        iyy="1.08244491110522E-06"
        iyz="4.73147310380332E-22"
        izz="1.02007684167811E-06" />
    </inertial>
    <visual>
      <origin
        xyz="0 0 0"
        rpy="0 0 0" />
      <geometry>
        <mesh
          filename="package://smr200_description/meshes/ultrasonic_rear_right_mid_link.STL" />
      </geometry>
      <material
        name="">
        <color
          rgba="0.792156862745098 0.819607843137255 0.933333333333333 1" />
      </material>
    </visual>
    <collision>
      <origin
        xyz="0 0 0"
        rpy="0 0 0" />
      <geometry>
        <mesh
          filename="package://smr200_description/meshes/ultrasonic_rear_right_mid_link.STL" />
      </geometry>
    </collision>
  </link>
  <joint
    name="ultrasonic_rear_right_mid_joint"
    type="fixed">
    <origin
      xyz="-0.42225 -0.27325 -0.22418"
      rpy="0 -0.10436 -2.3562" />
    <parent
      link="base_link" />
    <child
      link="ultrasonic_rear_right_mid_link" />
    <axis
      xyz="0 0 0" />
  </joint>
  <link
    name="ultrasonic_rear_right_side_link">
    <inertial>
      <origin
        xyz="-0.00990545214343669 0.000360935413968311 -0.000782026730264312"
        rpy="0 0 0" />
      <mass
        value="0.033031359735315" />
      <inertia
        ixx="1.28694267013293E-06"
        ixy="-3.50091298049347E-22"
        ixz="-9.92616735063566E-23"
        iyy="1.08244491110522E-06"
        iyz="4.59431436487429E-23"
        izz="1.02007684167811E-06" />
    </inertial>
    <visual>
      <origin
        xyz="0 0 0"
        rpy="0 0 0" />
      <geometry>
        <mesh
          filename="package://smr200_description/meshes/ultrasonic_rear_right_side_link.STL" />
      </geometry>
      <material
        name="">
        <color
          rgba="0.792156862745098 0.819607843137255 0.933333333333333 1" />
      </material>
    </visual>
    <collision>
      <origin
        xyz="0 0 0"
        rpy="0 0 0" />
      <geometry>
        <mesh
          filename="package://smr200_description/meshes/ultrasonic_rear_right_side_link.STL" />
      </geometry>
    </collision>
  </link>
  <joint
    name="ultrasonic_rear_right_side_joint"
    type="fixed">
    <origin
      xyz="-0.339 -0.28753 -0.22418"
      rpy="0 -0.10436 -1.5708" />
    <parent
      link="base_link" />
    <child
      link="ultrasonic_rear_right_side_link" />
    <axis
      xyz="0 0 0" />
  </joint>
  <link
    name="imu_link">
    <inertial>
      <origin
        xyz="0 0 0"
        rpy="0 0 0" />
      <mass
        value="0.05" />
      <inertia
        ixx="0"
        ixy="0"
        ixz="0"
        iyy="0"
        iyz="0"
        izz="0" />
    </inertial>
    <visual>
      <origin
        xyz="0 0 0"
        rpy="0 0 0" />
      <geometry>
        <mesh
          filename="package://smr200_description/meshes/imu_link.STL" />
      </geometry>
      <material
        name="">
        <color
          rgba="1 1 1 1" />
      </material>
    </visual>
    <collision>
      <origin
        xyz="0 0 0"
        rpy="0 0 0" />
      <geometry>
        <mesh
          filename="package://smr200_description/meshes/imu_link.STL" />
      </geometry>
    </collision>
  </link>
  <joint
    name="imu_joint"
    type="fixed">
    <origin
      xyz="0 0 -0.0230000000000049"
      rpy="0 0 0" />
    <parent
      link="base_link" />
    <child
      link="imu_link" />
    <axis
      xyz="0 0 0" />
  </joint>

  <!-- '''mu''' is the Coulomb friction coefficient for the first friction direction, and
       '''mu2''' is the friction coefficient for the second friction direction (perpendicular to the first friction direction). -->

  <gazebo reference="wheel_left_link">
    <surface>
        <friction>
          <ode>
            <mu>10000000.01</mu>
            <mu2>10000000.01</mu2>
            <fdir1>0 0 1</fdir1>
            <slip1>100</slip1>
            <slip2>100</slip2>
          </ode>
        </friction>
        <bounce>
          <restitution_coefficient>0.0</restitution_coefficient>
          <threshold>[number redacted]</threshold>
        </bounce>
        <contact>
          <ode>
            <soft_cfm>0.00001</soft_cfm>
            <soft_erp>0.2</soft_erp>
            <kp>100000000.0</kp>
            <kd>10.0</kd>
            <max_vel>100.0</max_vel>
            <min_depth>0.001</min_depth>
          </ode>
        </contact>
    </surface>
  </gazebo>

  <gazebo reference="wheel_right_link">
    <surface>
        <friction>
          <ode>
            <mu>10000000.01</mu>
            <mu2>10000000.01</mu2>
            <fdir1>0 0 1</fdir1>
            <slip1>100</slip1>
            <slip2>100</slip2>
          </ode>
        </friction>
        <bounce>
          <restitution_coefficient>0.0</restitution_coefficient>
          <threshold>[number redacted]</threshold>
        </bounce>
        <contact>
          <ode>
            <soft_cfm>0.00001</soft_cfm>
            <soft_erp>0.2</soft_erp>
            <kp>100000000.0</kp>
            <kd>10.0</kd>
            <max_vel>100.0</max_vel>
            <min_depth>0.001</min_depth>
          </ode>
        </contact>
    </surface>
  </gazebo>

  <gazebo reference="caster_wheel_front_left_link">
    <surface>
        <friction>
          <ode>
            <mu>10000000.01</mu>
            <mu2>10000000.01</mu2>
            <fdir1>0 0 1</fdir1>
            <slip1>100</slip1>
            <slip2>100</slip2>
          </ode>
        </friction>
        <bounce>
          <restitution_coefficient>0.0</restitution_coefficient>
          <threshold>[number redacted]</threshold>
        </bounce>
        <contact>
          <ode>
            <soft_cfm>0.00001</soft_cfm>
            <soft_erp>0.2</soft_erp>
            <kp>100000000.0</kp>
            <kd>10.0</kd>
            <max_vel>100.0</max_vel>
            <min_depth>0.001</min_depth>
          </ode>
        </contact>
    </surface>
  </gazebo>

  <gazebo reference="caster_wheel_front_right_link">
    <surface>
        <friction>
          <ode>
            <mu>10000000.01</mu>
            <mu2>10000000.01</mu2>
            <fdir1>0 0 1</fdir1>
            <slip1>100</slip1>
            <slip2>100</slip2>
          </ode>
        </friction>
        <bounce>
          <restitution_coefficient>0.0</restitution_coefficient>
          <threshold>[number redacted]</threshold>
        </bounce>
        <contact>
          <ode>
            <soft_cfm>0.00001</soft_cfm>
            <soft_erp>0.2</soft_erp>
            <kp>100000000.0</kp>
            <kd>10.0</kd>
            <max_vel>100.0</max_vel>
            <min_depth>0.001</min_depth>
          </ode>
        </contact>
    </surface>
  </gazebo>

  <gazebo reference="caster_wheel_rear_left_link">
    <surface>
        <friction>
          <ode>
            <mu>10000000.01</mu>
            <mu2>10000000.01</mu2>
            <fdir1>0 0 1</fdir1>
            <slip1>100</slip1>
            <slip2>100</slip2>
          </ode>
        </friction>
        <bounce>
          <restitution_coefficient>0.0</restitution_coefficient>
          <threshold>[number redacted]</threshold>
        </bounce>
        <contact>
          <ode>
            <soft_cfm>0.00001</soft_cfm>
            <soft_erp>0.2</soft_erp>
            <kp>100000000.0</kp>
            <kd>10.0</kd>
            <max_vel>100.0</max_vel>
            <min_depth>0.001</min_depth>
          </ode>
        </contact>
    </surface>
  </gazebo>

  <gazebo reference="caster_wheel_rear_right_link">
    <surface>
        <friction>
          <ode>
            <mu>10000000.01</mu>
            <mu2>10000000.01</mu2>
            <fdir1>0 0 1</fdir1>
            <slip1>100</slip1>
            <slip2>100</slip2>
          </ode>
        </friction>
        <bounce>
          <restitution_coefficient>0.0</restitution_coefficient>
          <threshold>[number redacted]</threshold>
        </bounce>
        <contact>
          <ode>
            <soft_cfm>0.00001</soft_cfm>
            <soft_erp>0.2</soft_erp>
            <kp>100000000.0</kp>
            <kd>10.0</kd>
            <max_vel>100.0</max_vel>
            <min_depth>0.001</min_depth>
          </ode>
        </contact>
    </surface>
  </gazebo>

  <gazebo reference="caster_front_left_link">
    <surface>
        <friction>
          <ode>
            <mu>10000000.01</mu>
            <mu2>10000000.01</mu2>
            <fdir1>0 0 1</fdir1>
            <slip1>100</slip1>
            <slip2>100</slip2>
          </ode>
        </friction>
        <bounce>
          <restitution_coefficient>0.0</restitution_coefficient>
          <threshold>[number redacted]</threshold>
        </bounce>
        <contact>
          <ode>
            <soft_cfm>0.00001</soft_cfm>
            <soft_erp>0.2</soft_erp>
            <kp>100000000.0</kp>
            <kd>10.0</kd>
            <max_vel>100.0</max_vel>
            <min_depth>0.001</min_depth>
          </ode>
        </contact>
    </surface>
  </gazebo>

  <gazebo reference="caster_front_right_link">
    <surface>
        <friction>
          <ode>
            <mu>10000000.01</mu>
            <mu2>10000000.01</mu2>
            <fdir1>0 0 1</fdir1>
            <slip1>100</slip1>
            <slip2>100</slip2>
          </ode>
        </friction>
        <bounce>
          <restitution_coefficient>0.0</restitution_coefficient>
          <threshold>[number redacted]</threshold>
        </bounce>
        <contact>
          <ode>
            <soft_cfm>0.00001</soft_cfm>
            <soft_erp>0.2</soft_erp>
            <kp>100000000.0</kp>
            <kd>10.0</kd>
            <max_vel>100.0</max_vel>
            <min_depth>0.001</min_depth>
          </ode>
        </contact>
    </surface>
  </gazebo>

  <gazebo reference="caster_rear_left_link">
    <surface>
        <friction>
          <ode>
            <mu>10000000.01</mu>
            <mu2>10000000.01</mu2>
            <fdir1>0 0 1</fdir1>
            <slip1>100</slip1>
            <slip2>100</slip2>
          </ode>
        </friction>
        <bounce>
          <restitution_coefficient>0.0</restitution_coefficient>
          <threshold>[number redacted]</threshold>
        </bounce>
        <contact>
          <ode>
            <soft_cfm>0.00001</soft_cfm>
            <soft_erp>0.2</soft_erp>
            <kp>100000000.0</kp>
            <kd>10.0</kd>
            <max_vel>100.0</max_vel>
            <min_depth>0.001</min_depth>
          </ode>
        </contact>
    </surface>
  </gazebo>

  <gazebo reference="caster_rear_right_link">
    <surface>
        <friction>
          <ode>
            <mu>10000000.01</mu>
            <mu2>10000000.01</mu2>
            <fdir1>0 0 1</fdir1>
            <slip1>100</slip1>
            <slip2>100</slip2>
          </ode>
        </friction>
        <bounce>
          <restitution_coefficient>0.0</restitution_coefficient>
          <threshold>[number redacted]</threshold>
        </bounce>
        <contact>
          <ode>
            <soft_cfm>0.00001</soft_cfm>
            <soft_erp>0.2</soft_erp>
            <kp>100000000.0</kp>
            <kd>10.0</kd>
            <max_vel>100.0</max_vel>
            <min_depth>0.001</min_depth>
          </ode>
        </contact>
    </surface>
  </gazebo>

  <gazebo>
    <plugin name="differential_drive_controller" filename="libgazebo_ros_diff_drive.so">

      <!-- Plugin update rate in Hz -->
      <updateRate>40</updateRate>

      <publishTf>true</publishTf>

      <!-- Name of left joint, defaults to `left_joint` -->
      <leftJoint>wheel_left_joint</leftJoint>

      <!-- Name of right joint, defaults to `right_joint` -->
      <rightJoint>wheel_right_joint</rightJoint>

      <!-- The distance from the center of one wheel to the other, in meters, defaults to 0.34 m -->
      <wheelSeparation>0.494</wheelSeparation>

      <!-- Diameter of the wheels, in meters, defaults to 0.15 m -->
      <wheelDiameter>0.15</wheelDiameter>

      <!-- Wheel acceleration, in rad/s^2, defaults to 0.0 rad/s^2 -->
      <wheelAcceleration>1.0</wheelAcceleration>

      <!-- Maximum torque which the wheels can produce, in Nm, defaults to 5 Nm -->
      <wheelTorque>500.0</wheelTorque>

      <!-- Topic to receive geometry_msgs/Twist message commands, defaults to `cmd_vel` -->
      <commandTopic>cmd_vel</commandTopic>

      <!-- Topic to publish nav_msgs/Odometry messages, defaults to `odom` -->
      <odometryTopic>odom</odometryTopic>

      <!-- Odometry frame, defaults to `odom` -->
      <odometryFrame>odom</odometryFrame>

      <publishOdomTF>true</publishOdomTF>

      <odometrySource>world</odometrySource>

      <!-- Robot frame to calculate odometry from, defaults to `base_footprint` -->
      <robotBaseFrame>base_footprint</robotBaseFrame>

      <!-- Odometry source, 0 for ENCODER, 1 for WORLD, defaults to WORLD -->
      <odometrySource>world</odometrySource>

      <!-- Set to true to publish transforms for the wheel links, defaults to false -->
      <publishWheelTF>false</publishWheelTF>

      <!-- Set to true to publish transforms for the odometry, defaults to true -->
      <publishOdom>true</publishOdom>

      <!-- Set to true to publish sensor_msgs/JointState on /joint_states for the wheel joints, defaults to false -->
      <publishWheelJointState>true</publishWheelJointState>

      <!-- Set to true to swap right and left wheels, defaults to true -->
      <legacyMode>false</legacyMode>
    </plugin>
  </gazebo>

  <link name="lidar_merged_link"/>

  <joint name="base_link_to_lidar_merged_link" type="fixed">
    <parent link="base_link"/>
    <child link="lidar_merged_link"/>
    <origin xyz="0.0 0.0 -0.14228" rpy="0 0 0"/>
  </joint>

  <!-- Front LiDAR RPLIDAR S2 -->
  <gazebo reference="lidar_front_link">
    <sensor type="gpu_ray" name="lidar_front_sensor">
      <pose>0 0 0 0 0 0</pose>
      <visualize>false</visualize>
      <update_rate>40</update_rate>
      <ray>
        <scan>
          <horizontal>
            <samples>3000</samples>
            <resolution>0.12</resolution> <!-- 0.12 deg = 0.002094395 rad -->
            <min_angle>-2.356195</min_angle>
            <max_angle>2.356195</max_angle>
          </horizontal>
        </scan>
        <range>
          <min>0.05</min>
          <max>30.0</max> <!-- white object -->
          <!-- <max>10.0</max> --> <!-- black object -->
          <resolution>0.05</resolution>
        </range>
        <noise>
          <type>gaussian</type>
          <!-- Noise parameters based on published spec for Hokuyo laser
               achieving "+-30mm" accuracy at range < 10m.  A mean of 0.0m and
               stddev of 0.01m will put 99.7% of samples within 0.03m of the true
               reading. -->
          <mean>0.0</mean>
          <stddev>0.01</stddev>
        </noise>
      </ray>
      <plugin name="gazebo_ros_lidar_front_controller" filename="libgazebo_ros_gpu_laser.so">
        <topicName>scan_front</topicName>
        <frameName>lidar_front_link</frameName>
      </plugin>
    </sensor>
  </gazebo>

  <!-- Rear LiDAR RPLIDAR S2 -->
  <gazebo reference="lidar_rear_link">
    <sensor type="gpu_ray" name="lidar_rear_sensor">
      <pose>0 0 0 0 0 0</pose>
      <visualize>false</visualize>
      <update_rate>40</update_rate>
      <ray>
        <scan>
          <horizontal>
            <samples>3000</samples>
            <resolution>0.12</resolution> <!-- deg -->
            <min_angle>-2.356195</min_angle>
            <max_angle>2.356195</max_angle>
          </horizontal>
        </scan>
        <range>
          <min>0.05</min>
          <max>30.0</max> <!-- white object -->
          <!-- <max>10.0</max> --> <!-- black object -->
          <resolution>0.05</resolution>
        </range>
        <noise>
          <type>gaussian</type>
          <!-- Noise parameters based on published spec for Hokuyo laser
               achieving "+-30mm" accuracy at range < 10m.  A mean of 0.0m and
               stddev of 0.01m will put 99.7% of samples within 0.03m of the true
               reading. -->
          <mean>0.0</mean>
          <stddev>0.01</stddev>
        </noise>
      </ray>
      <plugin name="gazebo_ros_lidar_rear_controller" filename="libgazebo_ros_gpu_laser.so">
        <topicName>scan_rear</topicName>
        <frameName>lidar_rear_link</frameName>
      </plugin>
    </sensor>
  </gazebo>

  <link name="depthcam_front_left_view_link">
    <inertial>
      <mass value="0.001"/>
      <origin xyz="0 0 0"/>
      <inertia ixx="0.000001" ixy="0.0" ixz="0.0" iyy="0.000001" iyz="0.0" izz="0.000001"/>
    </inertial>
  </link>

  <joint name="depthcam_front_left_view_joint" type="fixed">
    <parent link="depthcam_front_left_link"/>
    <child link="depthcam_front_left_view_link"/>
    <origin xyz="0.0 0.0 0.0" rpy="-1.5708 0.0 -1.5708"/>
  </joint>

  <gazebo reference="depthcam_front_left_link">
    <sensor name="depthcam_front_left" type="depth">
      <update_rate>20</update_rate>
      <camera>
        <horizontal_fov>1.51843644924</horizontal_fov>
        <image>
          <width>640</width>
          <height>480</height>
          <format>R8G8B8</format>
        </image>
        <clip>
          <near>0.05</near>
          <far>3.5</far>
        </clip>
      </camera>
      <plugin name="depthcam_front_left_controller" filename="libgazebo_ros_openni_kinect.so">
        <baseline>0.2</baseline>
        <alwaysOn>true</alwaysOn>
        <updateRate>1.0</updateRate>
        <cameraName>depthcam_front_left</cameraName>
        <imageTopicName>depthcam_front_left/color/image_raw</imageTopicName>
        <cameraInfoTopicName>depthcam_front_left/color/camera_info</cameraInfoTopicName>
        <depthImageTopicName>depthcam_front_left/depth/image_raw</depthImageTopicName>
        <depthImageInfoTopicName>depthcam_front_left/depth/camera_info</depthImageInfoTopicName>
        <pointCloudTopicName>depthcam_front_left/depth/points</pointCloudTopicName>
        <frameName>depthcam_front_left_view_link</frameName>
        <pointCloudCutoff>0.5</pointCloudCutoff>
        <pointCloudCutoffMax>3.0</pointCloudCutoffMax>
        <distortionK1>0.00000001</distortionK1>
        <distortionK2>0.00000001</distortionK2>
        <distortionK3>0.00000001</distortionK3>
        <distortionT1>0.00000001</distortionT1>
        <distortionT2>0.00000001</distortionT2>
        <CxPrime>0</CxPrime>
        <Cx>0</Cx>
        <Cy>0</Cy>
        <focalLength>0</focalLength>
        <hackBaseline>0</hackBaseline>
      </plugin>
    </sensor>
  </gazebo>

  <link name="depthcam_front_right_view_link">
    <inertial>
      <mass value="0.001"/>
      <origin xyz="0 0 0"/>
      <inertia ixx="0.000001" ixy="0.0" ixz="0.0" iyy="0.000001" iyz="0.0" izz="0.000001"/>
    </inertial>
  </link>

  <joint name="depthcam_front_right_view_joint" type="fixed">
    <parent link="depthcam_front_right_link"/>
    <child link="depthcam_front_right_view_link"/>
    <origin xyz="0.0 0.0 0.0" rpy="-1.5708 0.0 -1.5708"/>
  </joint>

  <gazebo reference="depthcam_front_right_link">
    <sensor name="depthcam_front_right" type="depth">
      <update_rate>20</update_rate>
      <camera>
        <horizontal_fov>1.51843644924</horizontal_fov>
        <image>
          <width>640</width>
          <height>480</height>
          <format>R8G8B8</format>
        </image>
        <clip>
          <near>0.05</near>
          <far>3.5</far>
        </clip>
      </camera>
      <plugin name="depthcam_front_right_controller" filename="libgazebo_ros_openni_kinect.so">
        <baseline>0.2</baseline>
        <alwaysOn>true</alwaysOn>
        <updateRate>1.0</updateRate>
        <cameraName>depthcam_front_right</cameraName>
        <imageTopicName>depthcam_front_right/color/image_raw</imageTopicName>
        <cameraInfoTopicName>depthcam_front_right/color/camera_info</cameraInfoTopicName>
        <depthImageTopicName>depthcam_front_right/depth/image_raw</depthImageTopicName>
        <depthImageInfoTopicName>depthcam_front_right/depth/camera_info</depthImageInfoTopicName>
        <pointCloudTopicName>depthcam_front_right/depth/points</pointCloudTopicName>
        <frameName>depthcam_front_right_view_link</frameName>
        <pointCloudCutoff>0.5</pointCloudCutoff>
        <pointCloudCutoffMax>3.0</pointCloudCutoffMax>
        <distortionK1>0.00000001</distortionK1>
        <distortionK2>0.00000001</distortionK2>
        <distortionK3>0.00000001</distortionK3>
        <distortionT1>0.00000001</distortionT1>
        <distortionT2>0.00000001</distortionT2>
        <CxPrime>0</CxPrime>
        <Cx>0</Cx>
        <Cy>0</Cy>
        <focalLength>0</focalLength>
        <hackBaseline>0</hackBaseline>
      </plugin>
    </sensor>
  </gazebo>

</robot>
